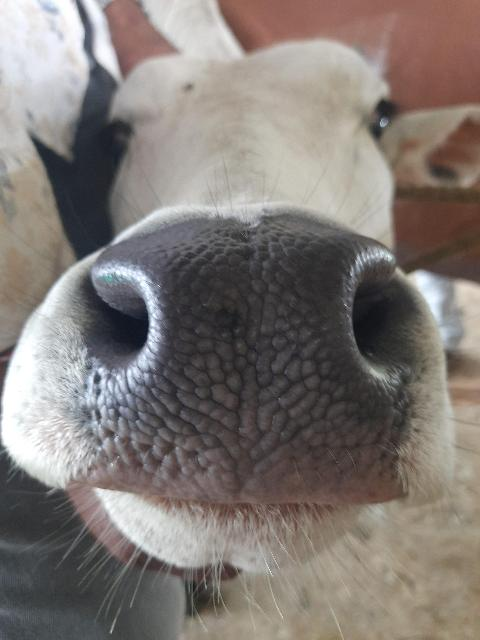Muzzle: (93, 238, 395, 502)
